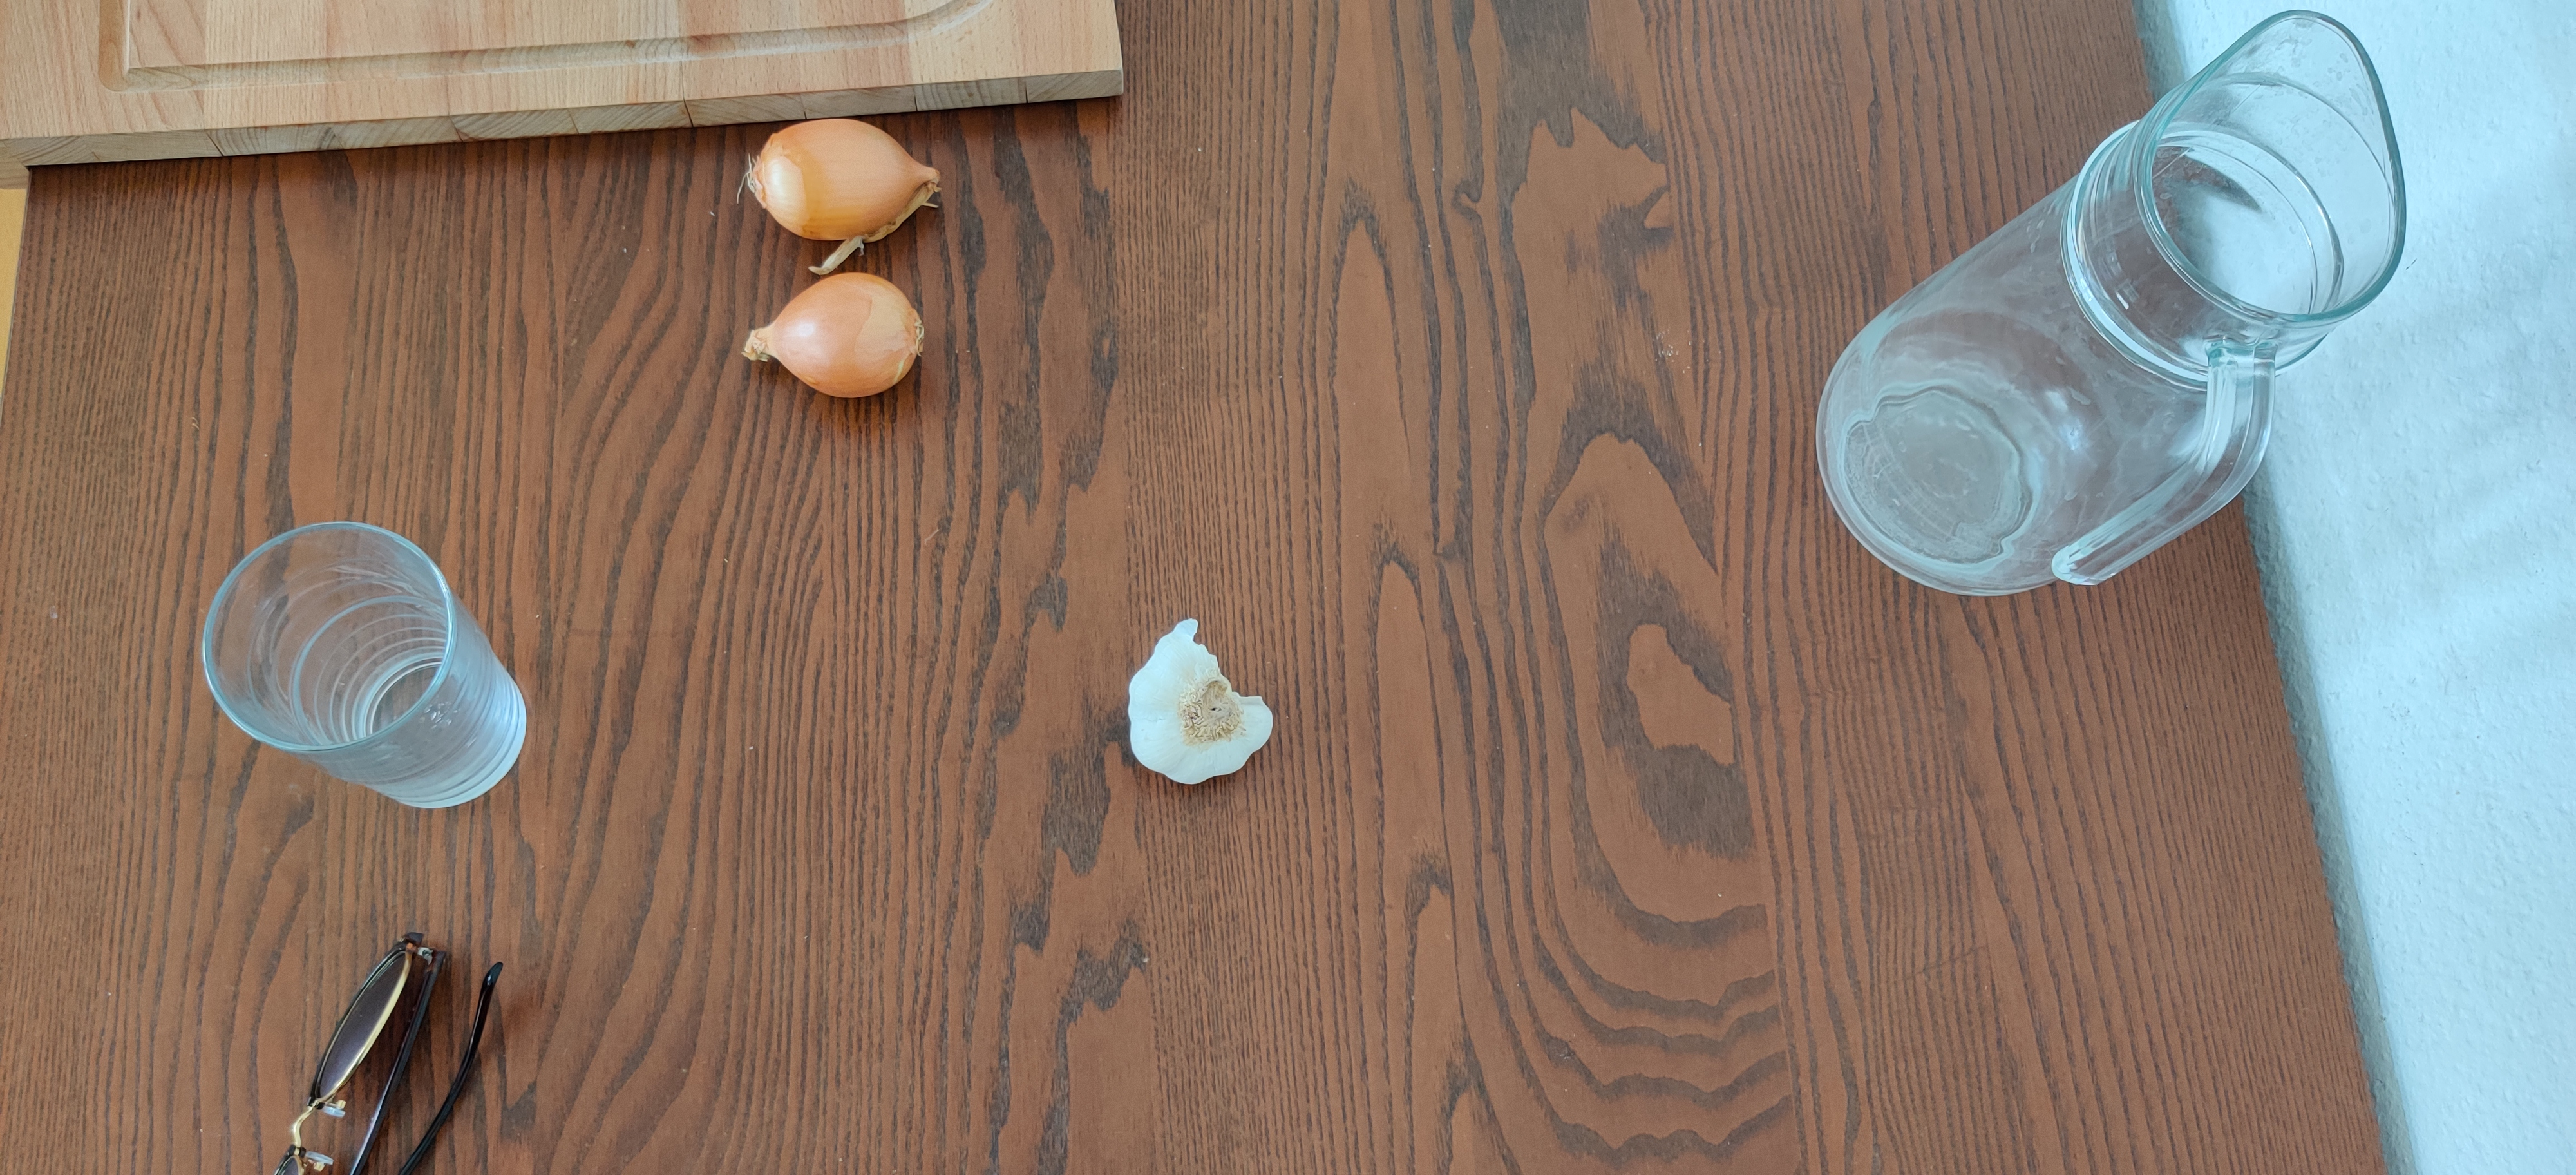Knoblauch: (1125, 620, 1273, 786)
